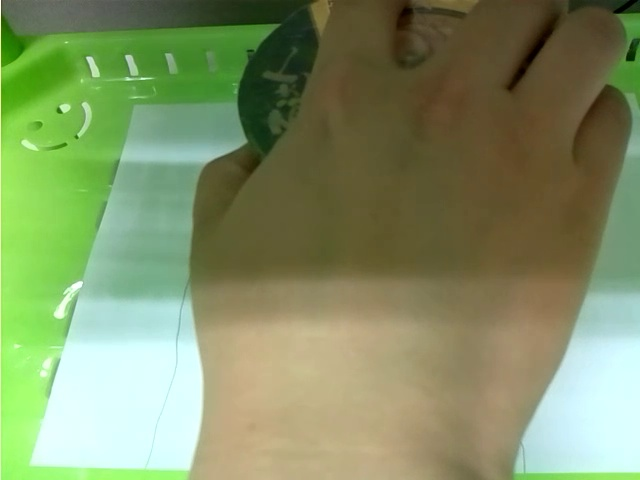hand: (192, 2, 633, 480)
